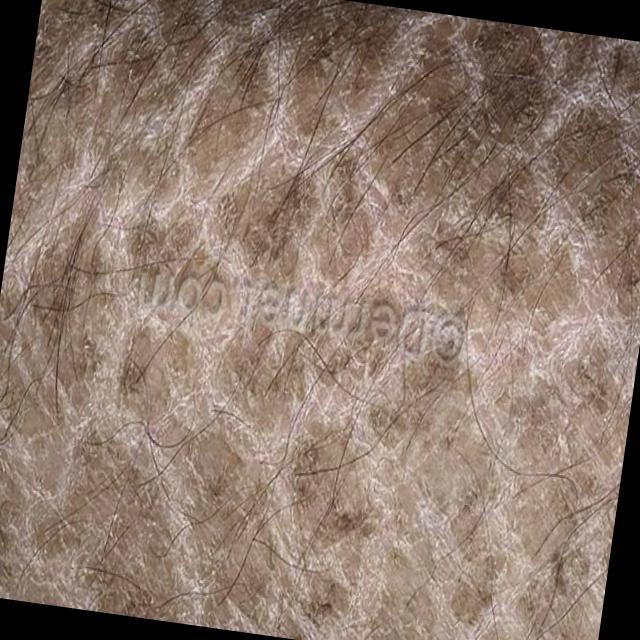Eczema: (36, 8, 598, 625)
